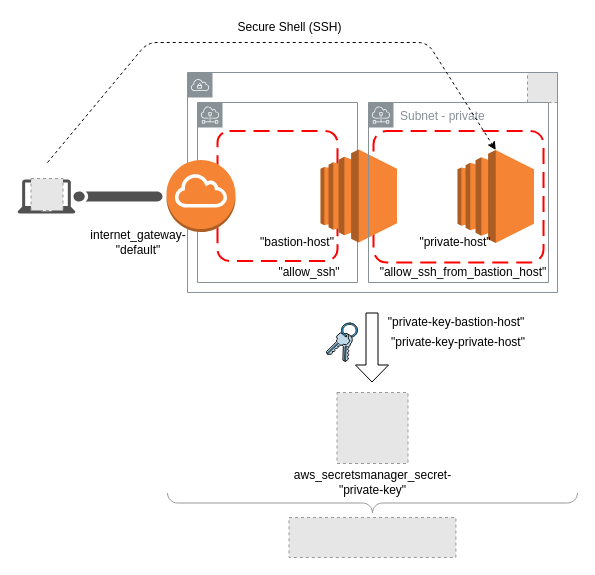
This 595x575 diagram has some shape labels left out. Grey dashed boxes stand in for pictures. The shapes that lost their labels are listed below. From the top down, each one's box as (x1, y1, x2, y2) in pixels, then its label:
(196, 102, 358, 282): Subnet - public
(186, 72, 558, 292): myVPC
